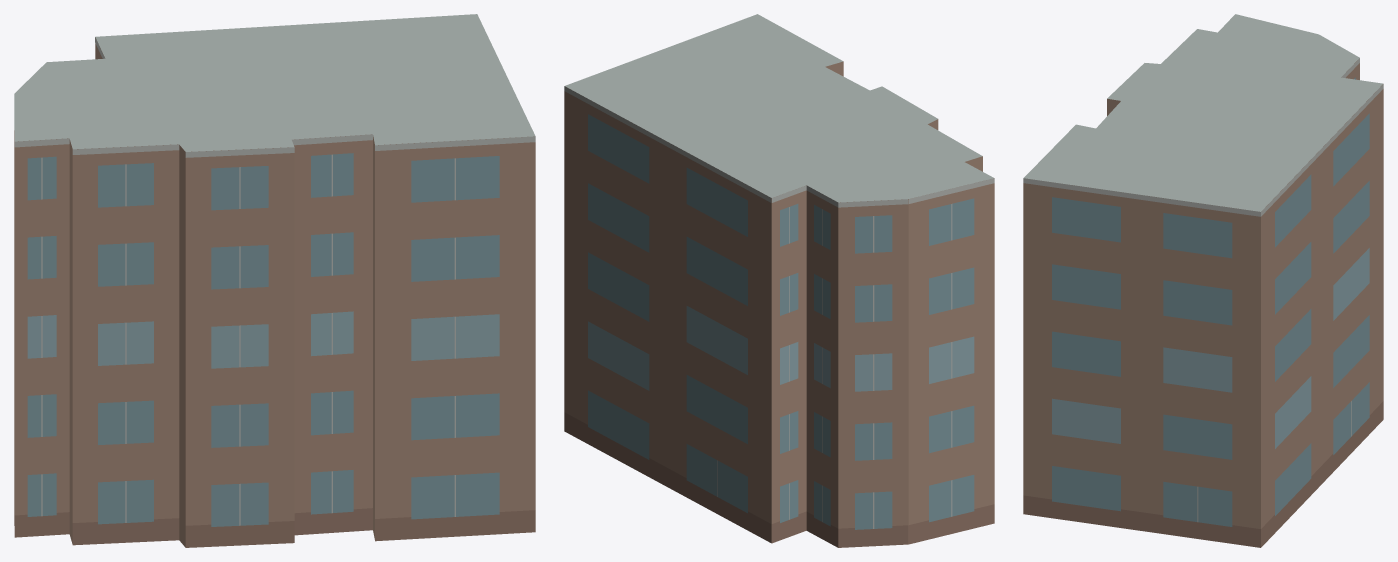
File: survey-upis-32967297.glb
The picture shows the model from 3 angles, left to right: view 1: azimuth 30°, elevation 25°; view 2: azimuth 150°, elevation 25°; view 3: azimuth 270°, elevation 25°; orthographic projection. The views are drawn at different scales.
Visible parts, largest first — view 1: survey-upis-32967297.tmp; view 2: survey-upis-32967297.tmp; view 3: survey-upis-32967297.tmp.
Boxes of the visible parts, x1=… form: survey-upis-32967297.tmp: x1=14, y1=14, x2=535, y2=547; survey-upis-32967297.tmp: x1=564, y1=14, x2=994, y2=547; survey-upis-32967297.tmp: x1=1023, y1=14, x2=1383, y2=547.
Bounding box in the file's own units: 20.95 × 16.58 × 16.11.
